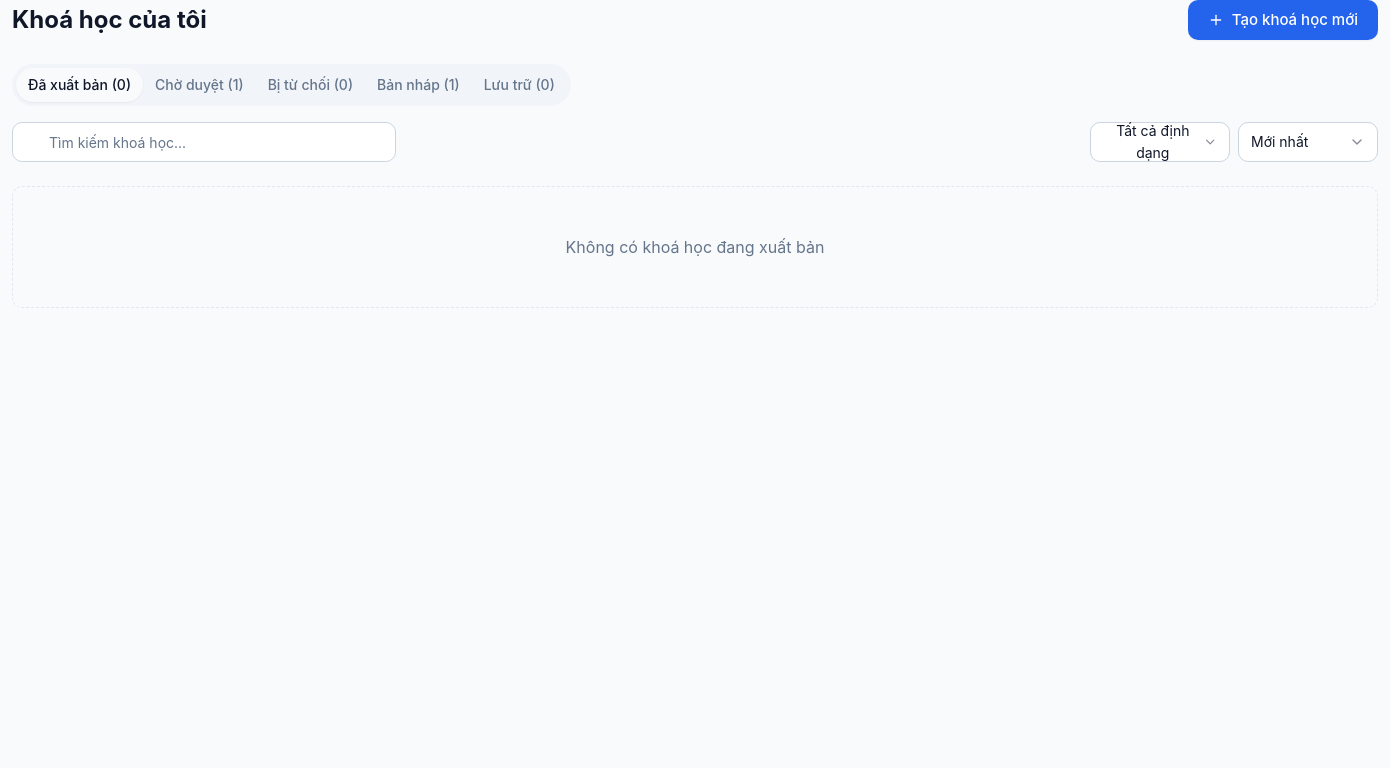
Scenario: /teacher/courses — nút xoá theo trạng thái › khoá chờ duyệt: không có nút xoá
The image size is (1390, 768).
Click the tab "Chờ duyệt (1)" at [199, 85], box [143,68,256,102]
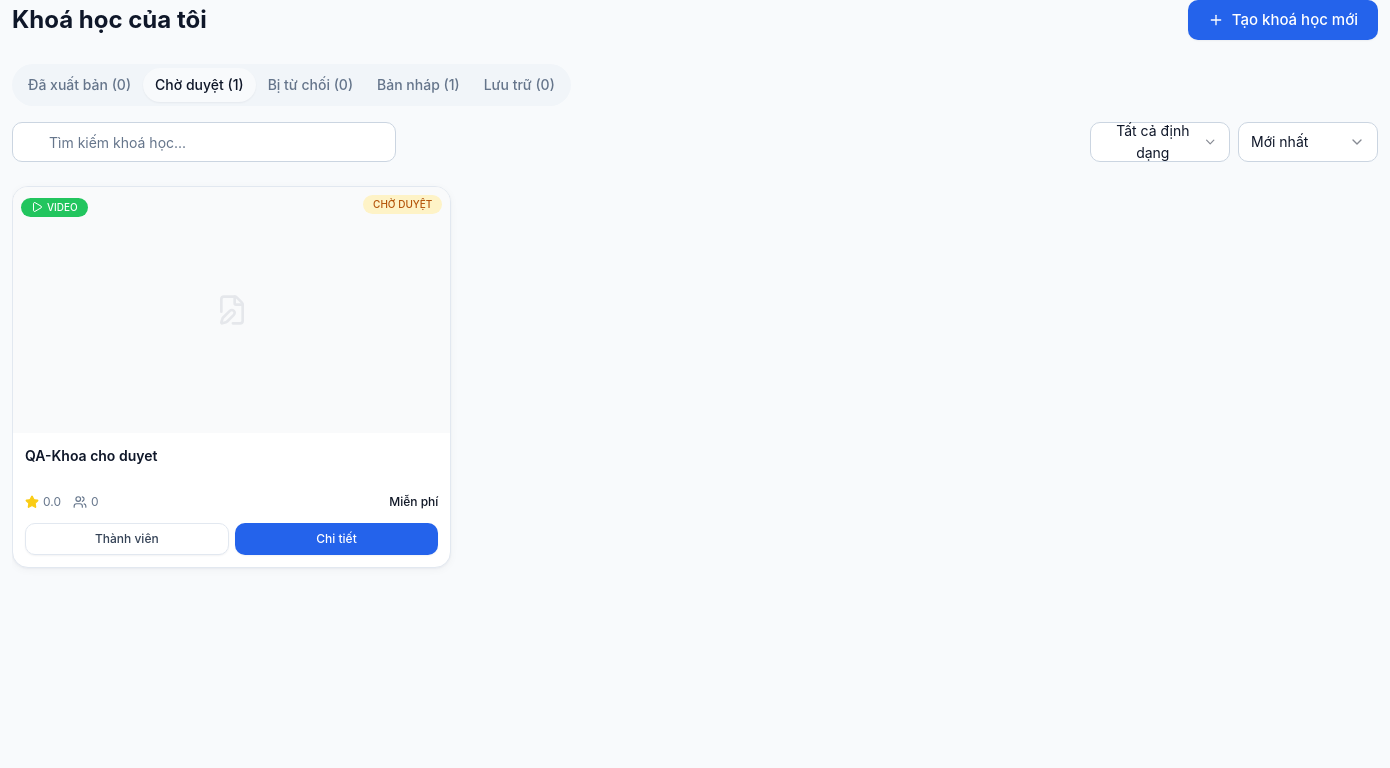
Now the heading "QA-Khoa cho duyet" is shown, box [25,447,157,464]
